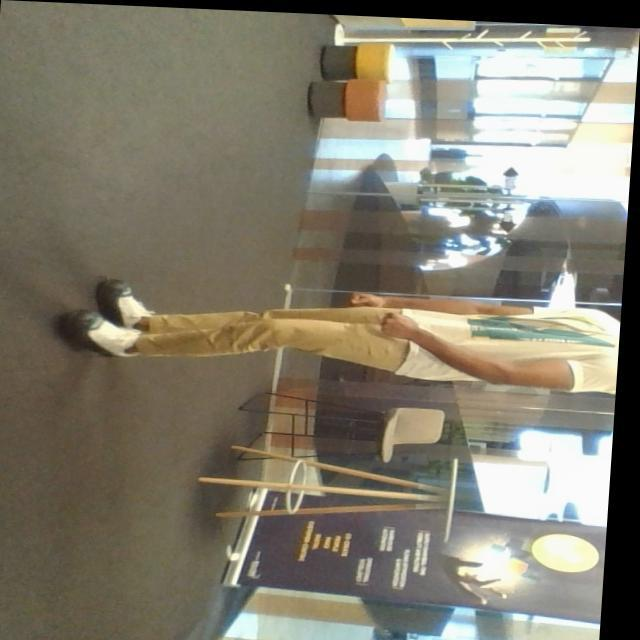shoes: (53, 307, 139, 363), (92, 276, 159, 344)
